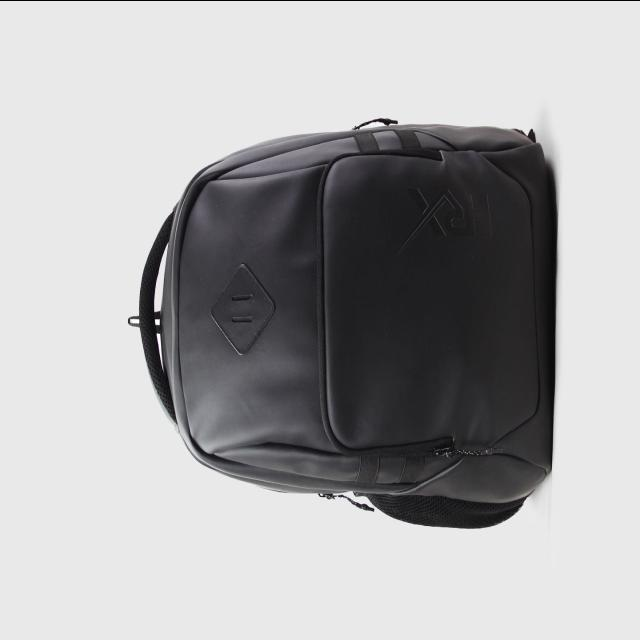backpack: (128, 118, 556, 530)
